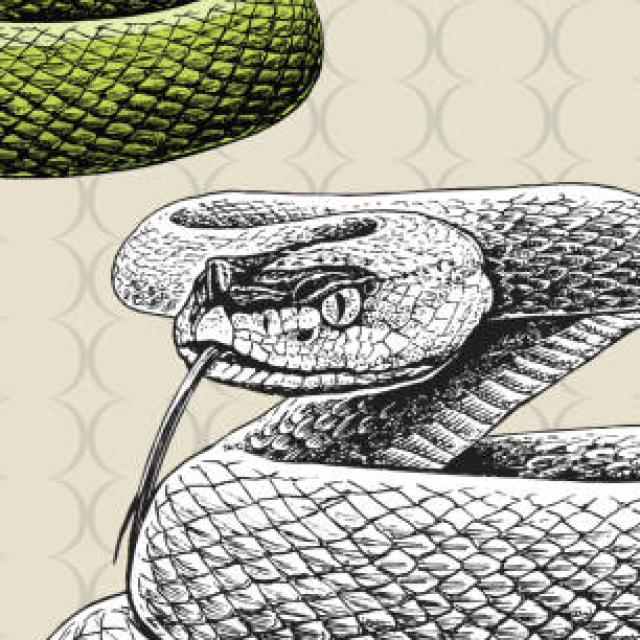snake: (8, 178, 640, 640)
